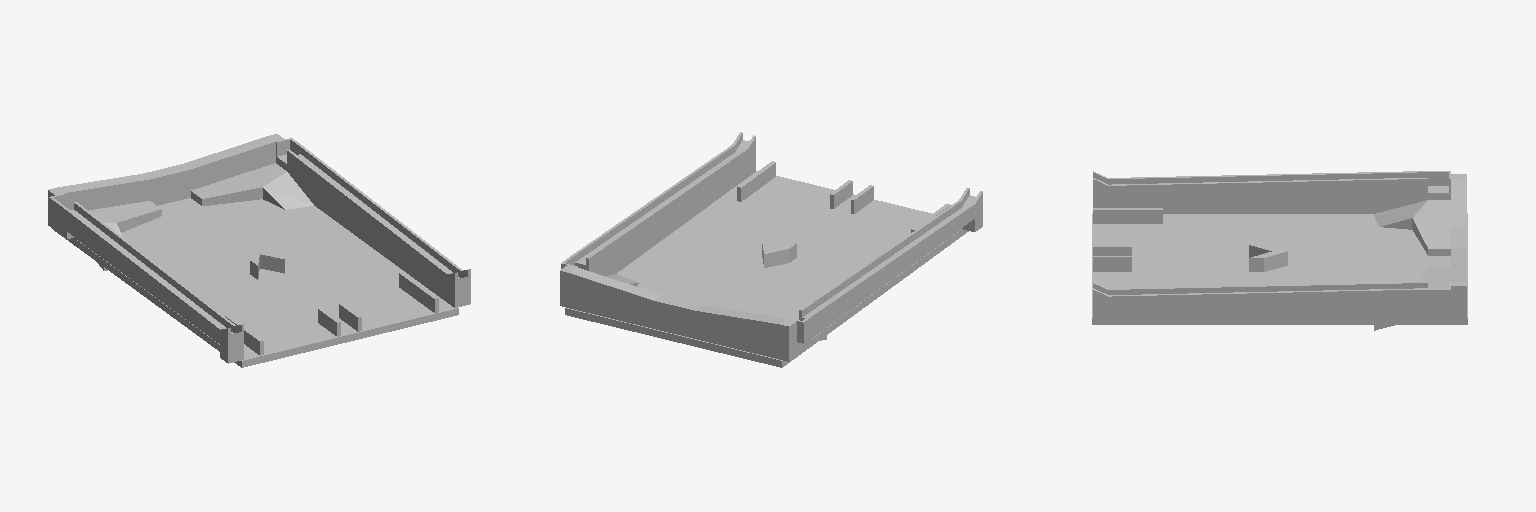
The model's file is map.obj.
3 views of the same model, side by side, from view 1: azimuth 30°, elevation 25°; view 2: azimuth 150°, elevation 25°; view 3: azimuth 270°, elevation 25° (orthographic).
Parts seen in each view (by area): view 1: Plane, Cube, Cube.001; view 2: Plane, Cube, Cube.001; view 3: Cube, Plane, Cube.001.
Part boxes in pixels (bbox=[...]): Plane: bbox=[53, 198, 458, 367]; Cube: bbox=[49, 138, 470, 363]; Cube.001: bbox=[48, 134, 313, 270]; Plane: bbox=[565, 171, 968, 367]; Cube: bbox=[561, 132, 982, 343]; Cube.001: bbox=[560, 265, 826, 361]; Cube: bbox=[1093, 171, 1450, 324]; Plane: bbox=[1092, 213, 1467, 324]; Cube.001: bbox=[1374, 174, 1466, 330].
Bounding box in the file's own units: 36 × 7.3 × 48.37.